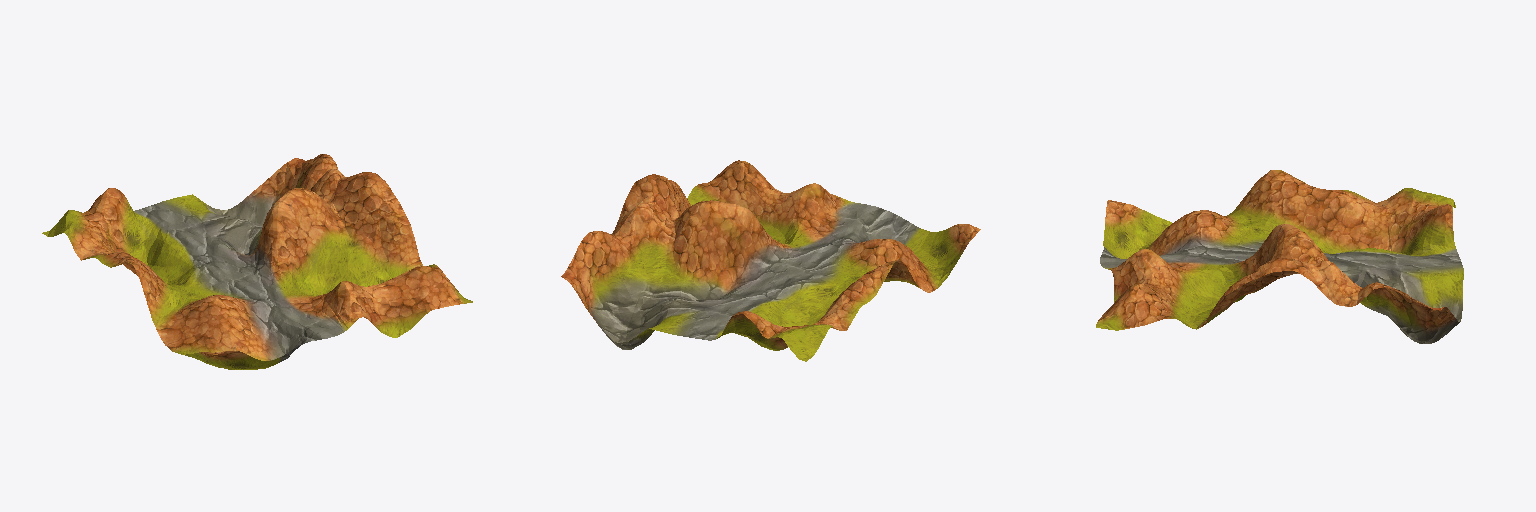
3 renders of one model, left to right at view 1: azimuth 30°, elevation 25°; view 2: azimuth 150°, elevation 25°; view 3: azimuth 270°, elevation 25°, orthographic.
Parts seen in each view (by area): view 1: terrain; view 2: terrain; view 3: terrain.
Part boxes in pixels (left/top/right/bottom): terrain: left=42, top=154, right=472, bottom=369; terrain: left=561, top=160, right=980, bottom=361; terrain: left=1096, top=170, right=1463, bottom=343.
Size of the model in its own units: 224 by 90.11 by 282.
Materials: 1 (1 with a texture image).